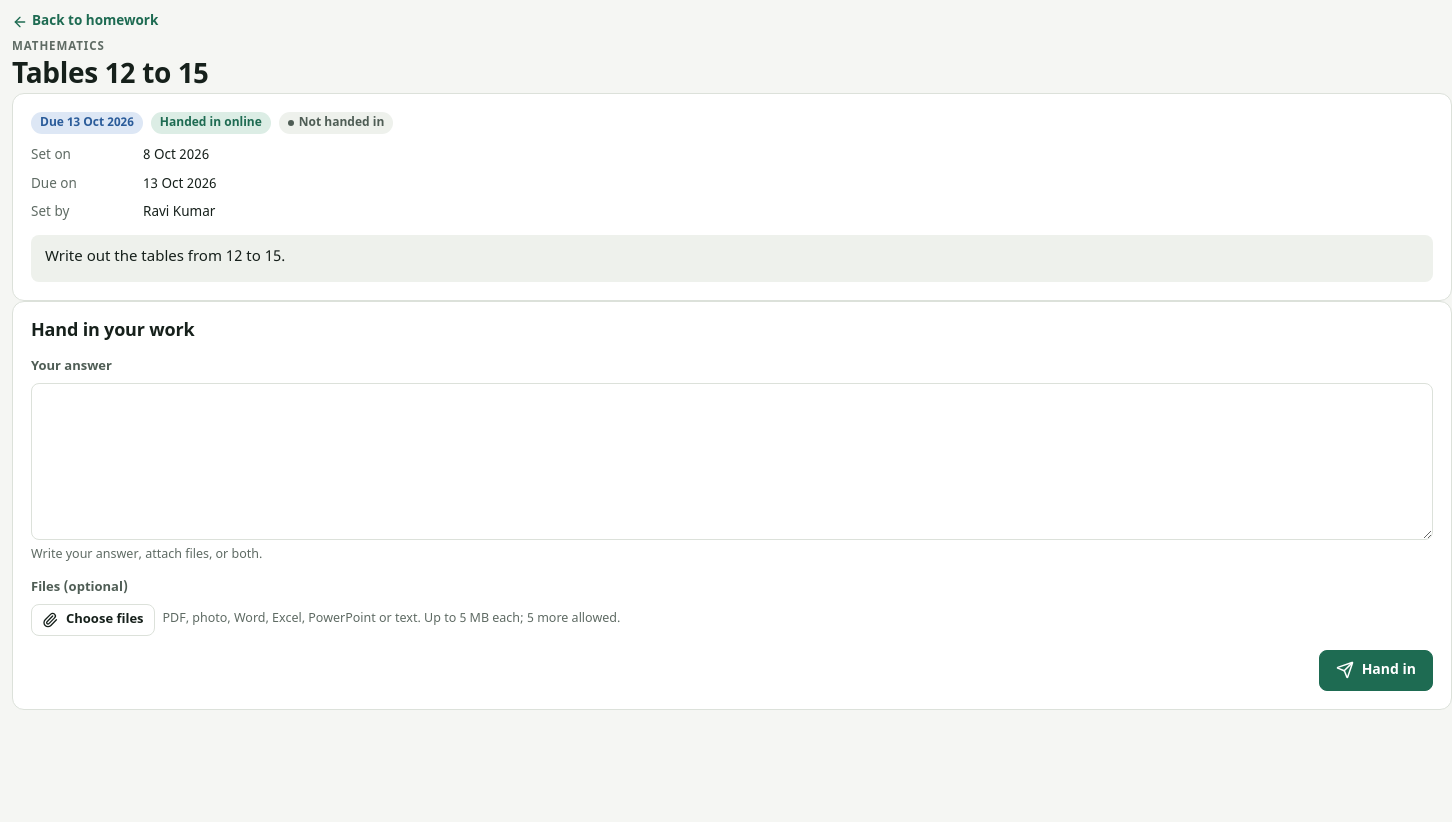
Test: StudentHomeworkDetailView › asks for an answer, then hands in the text and a file
Later steps or results of the test are not shown.
Check: the heading "Hand in your work" is shown, box [31, 320, 194, 343]
Click the button with test id "submission-send" at (1376, 670), box [1319, 650, 1433, 691]
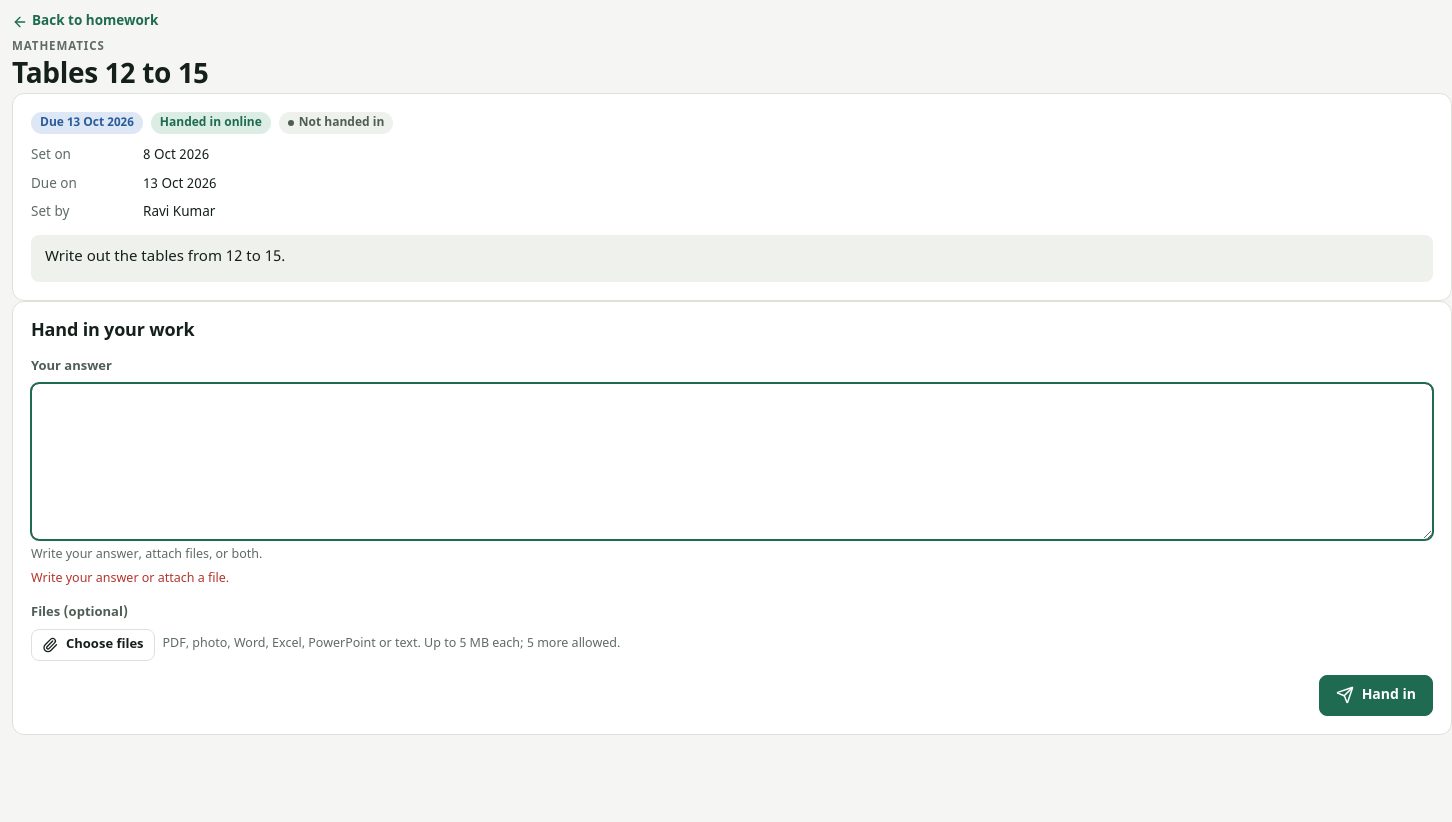
Check: the text "Write your answer or attach a file." is shown, box [31, 571, 229, 587]
